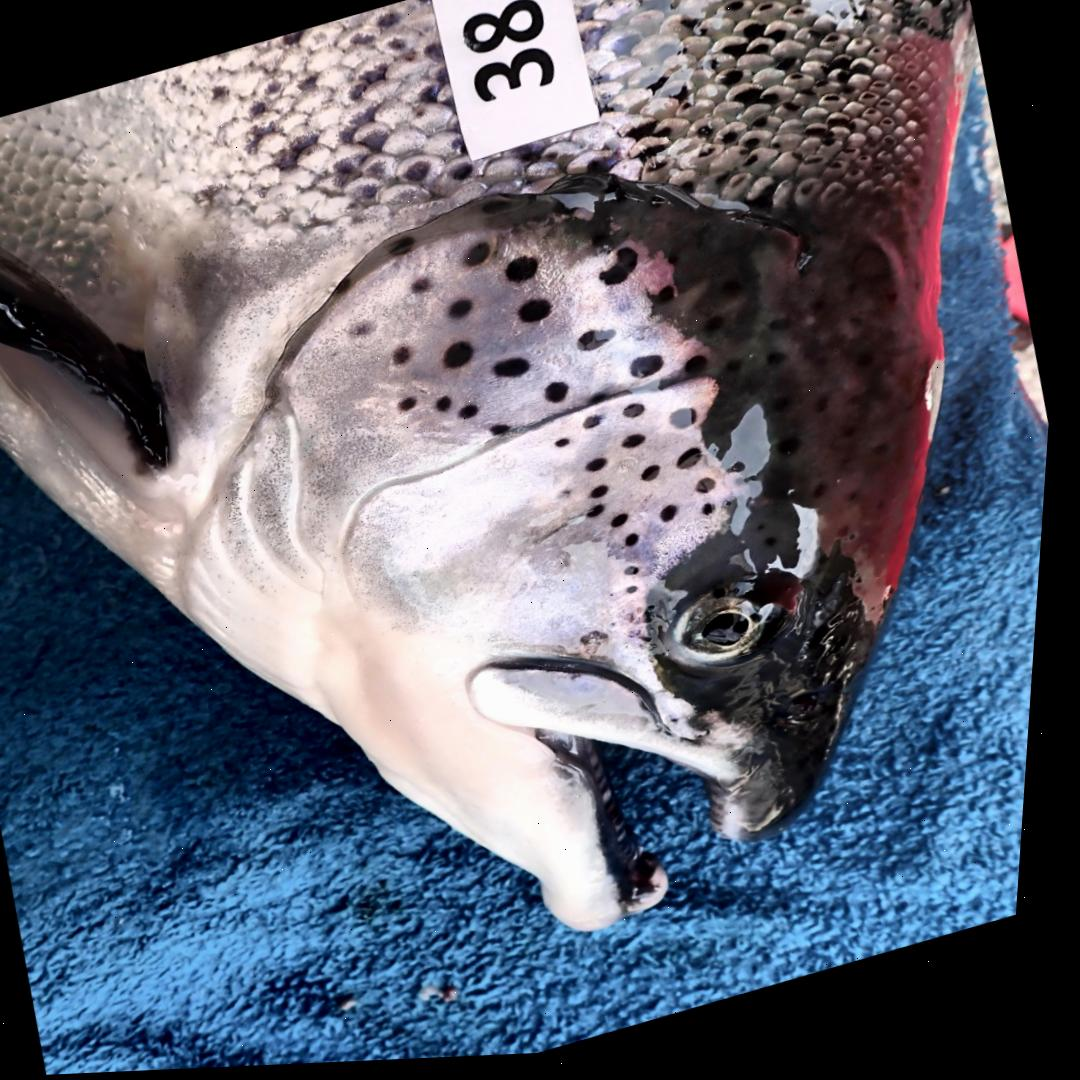spot: (602, 251, 642, 290), (648, 290, 679, 323), (590, 390, 635, 411), (581, 333, 620, 356), (521, 302, 556, 327), (447, 344, 479, 371), (509, 260, 542, 286), (635, 360, 669, 384), (498, 361, 535, 382), (467, 245, 494, 270), (682, 452, 709, 475), (674, 413, 702, 435), (452, 301, 477, 323), (352, 322, 380, 340), (549, 386, 573, 407), (688, 360, 712, 380), (484, 201, 514, 217), (589, 635, 616, 652), (392, 239, 417, 257), (395, 349, 416, 368), (414, 279, 436, 297), (665, 510, 686, 527), (629, 407, 651, 423), (627, 439, 651, 453), (702, 483, 723, 499), (591, 462, 613, 477), (648, 469, 666, 487), (464, 407, 485, 422), (589, 419, 609, 434), (404, 399, 422, 415), (592, 509, 612, 523), (495, 427, 516, 440), (597, 489, 615, 504), (618, 518, 636, 532), (441, 399, 456, 415), (631, 538, 646, 552), (559, 441, 577, 452), (707, 508, 722, 521), (630, 571, 646, 582), (634, 589, 647, 600), (565, 494, 577, 503)
